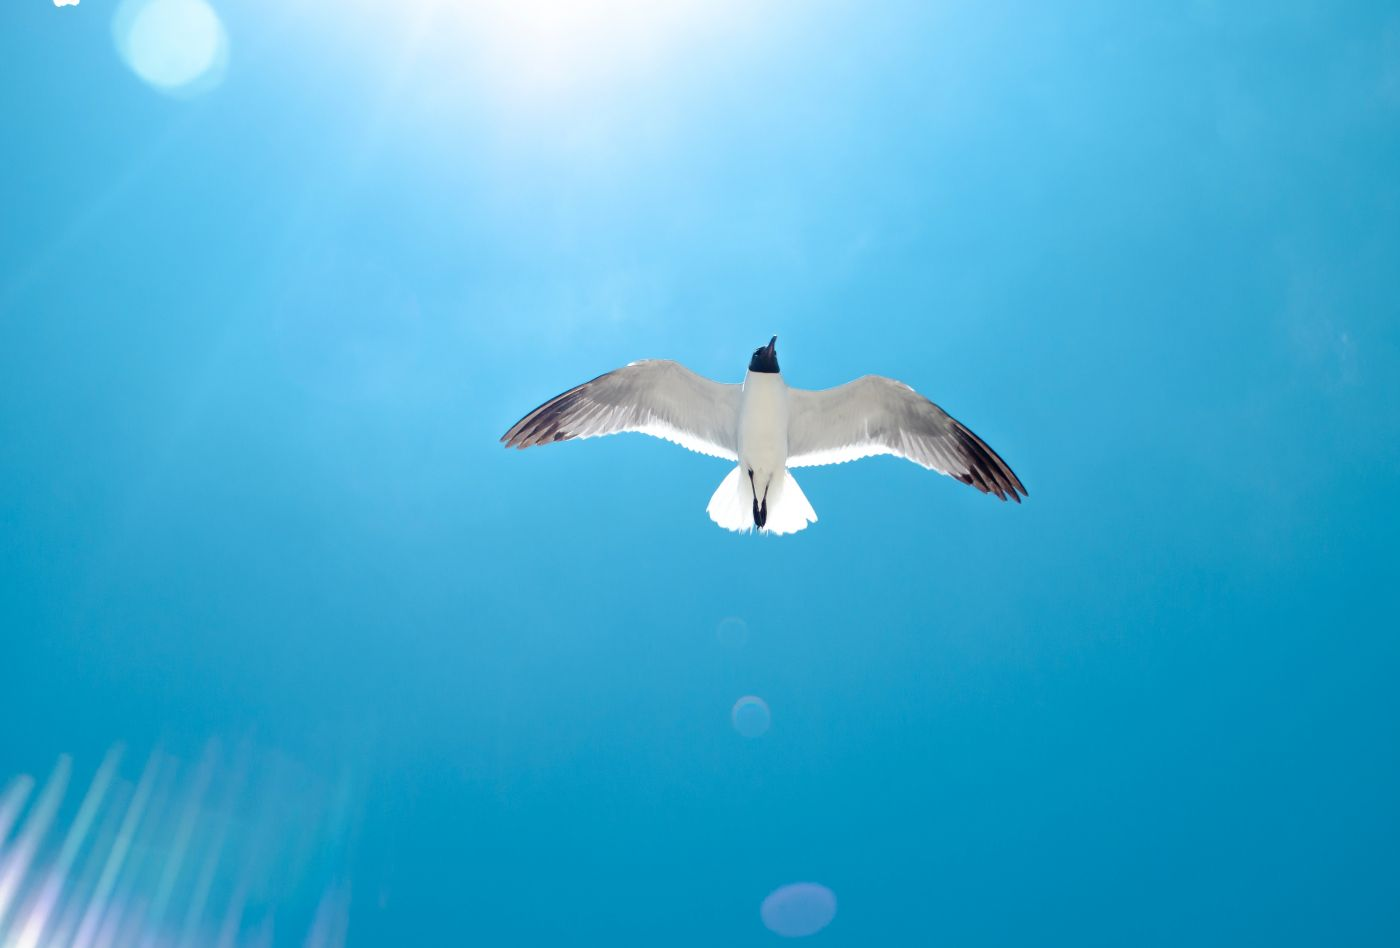bird: (494, 335, 1035, 540)
